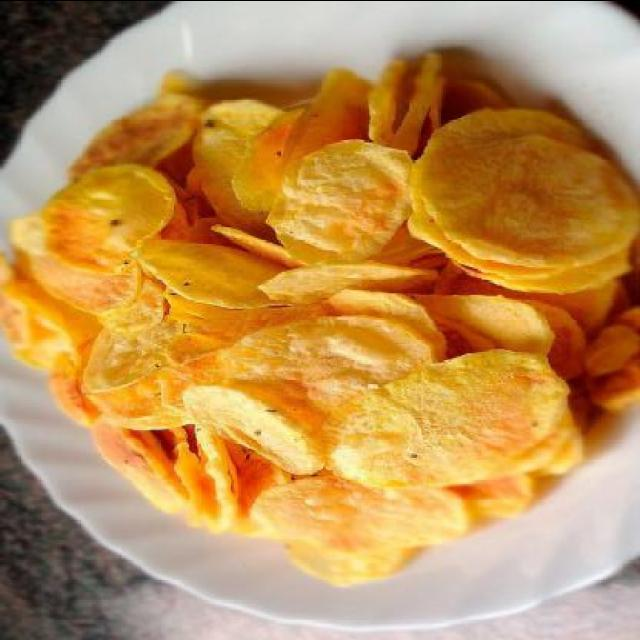Chips packaged: (44, 78, 610, 560)
